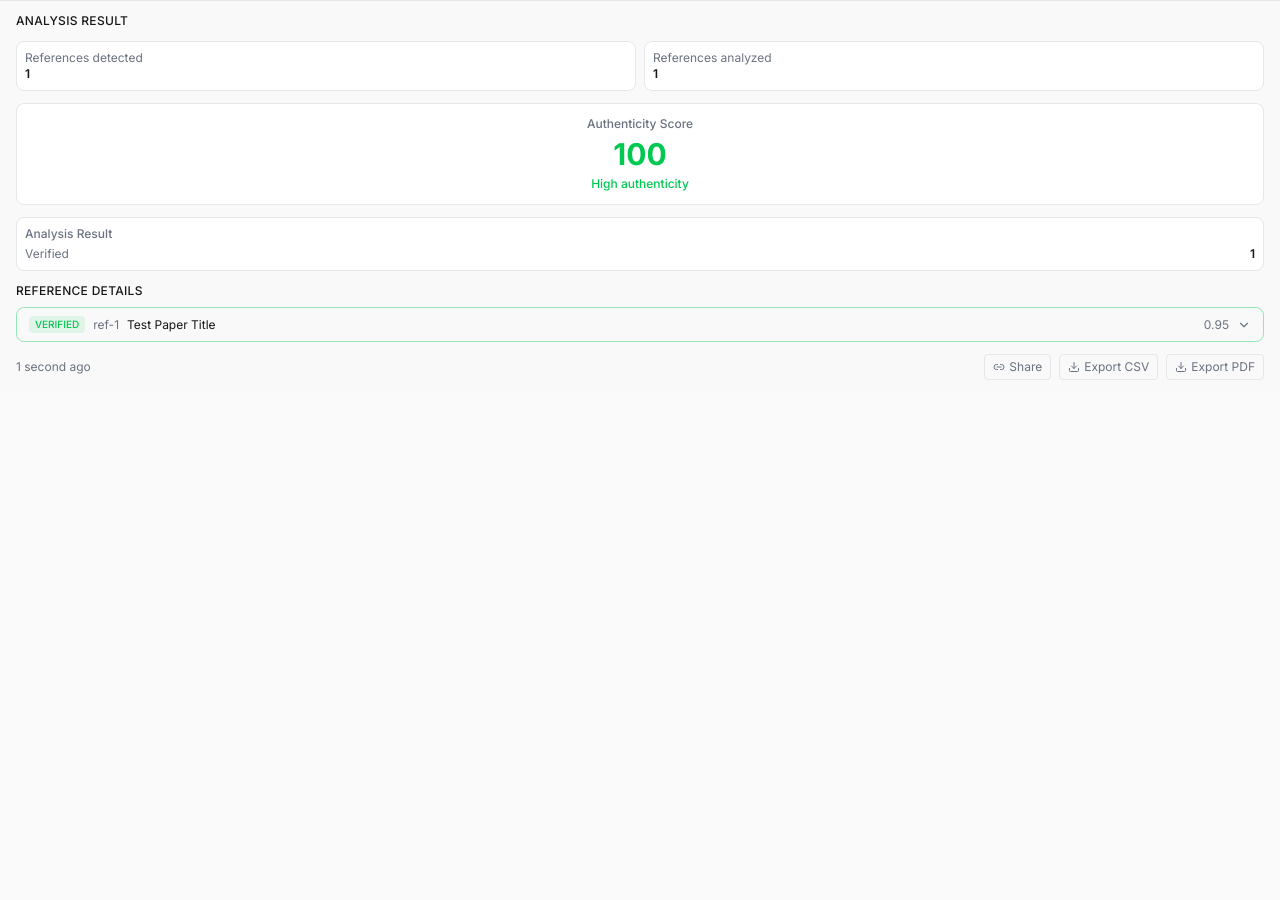
ExpandedDetail — succeeded with results › renders decisionReason verbatim (not translated)
Click the button "Verified ref-1 Test Paper Title 0.95" at (57, 325), box [17,308,1263,341]
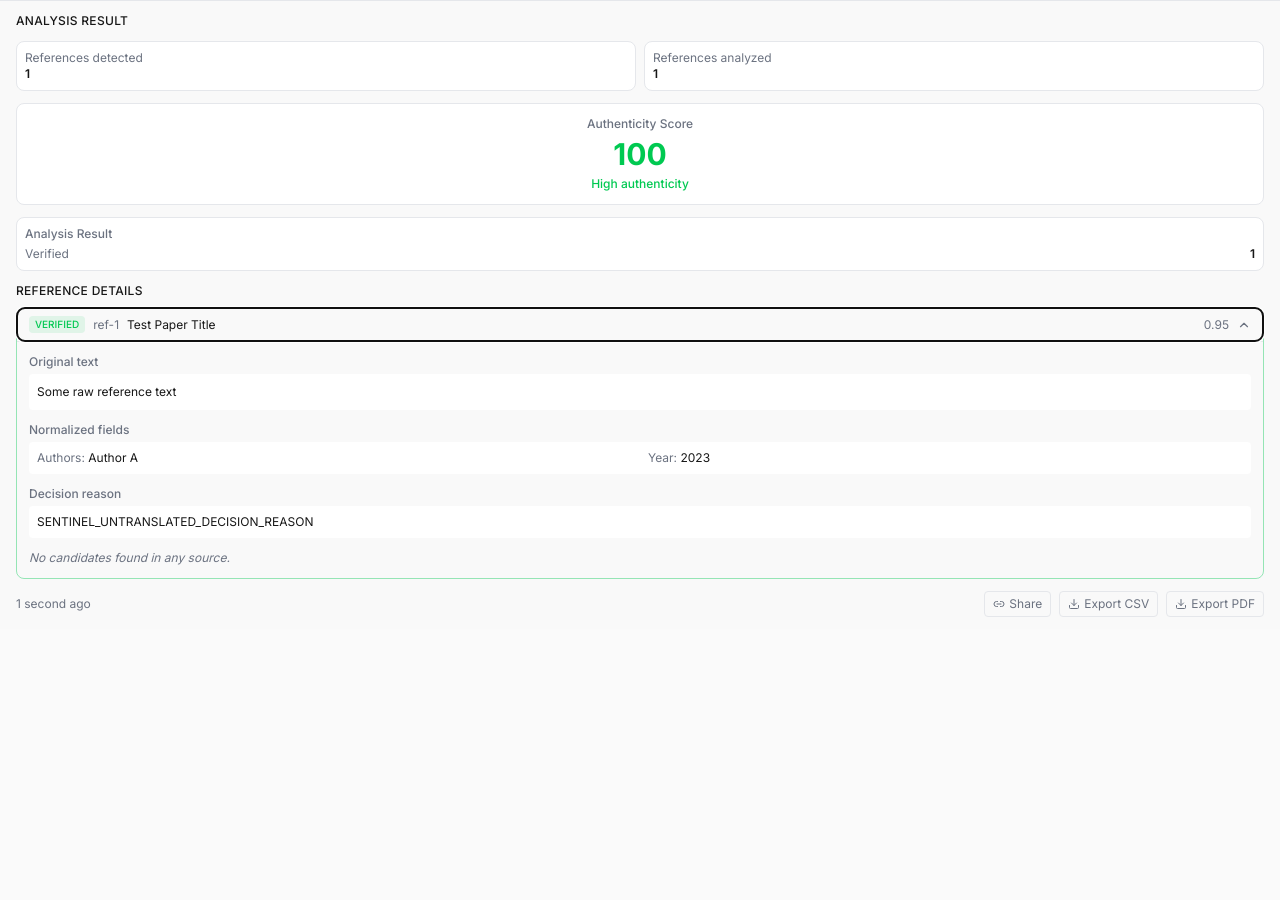
Expected: the text "SENTINEL_UNTRANSLATED_DECISION_REASON" is shown, [29,506,1251,538]
